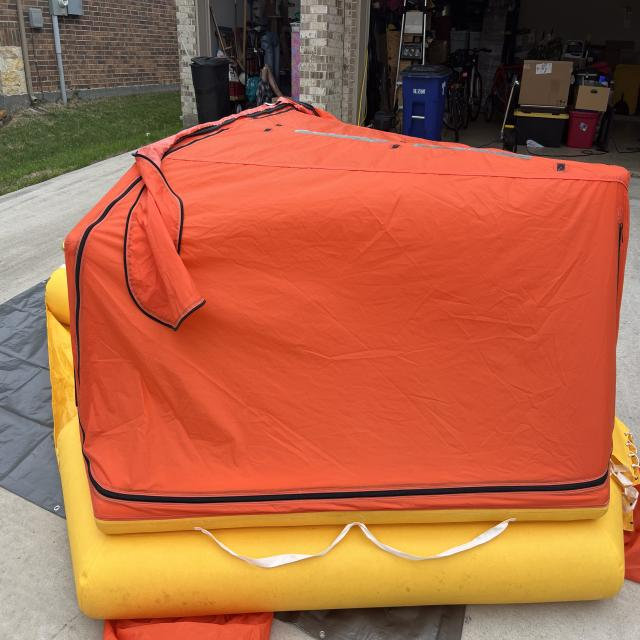Multi-person_life_raft: (45, 96, 640, 639)
